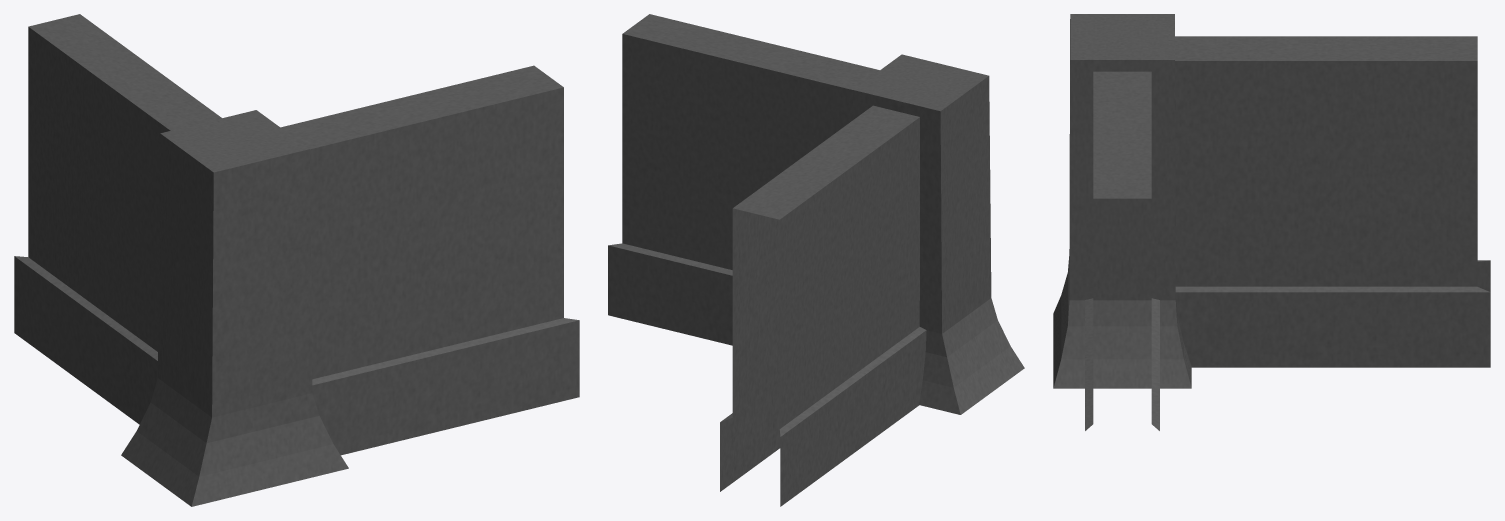
File: MuroQuina.fbx
3 views of the same model, side by side, from view 1: azimuth 30°, elevation 25°; view 2: azimuth 150°, elevation 25°; view 3: azimuth 270°, elevation 25° (orthographic). The views are drawn at different scales.
Visible parts, largest first — view 1: muroQuina; view 2: muroQuina; view 3: muroQuina.
Part boxes in pixels (<box>): muroQuina: <box>14,14,579,506</box>; muroQuina: <box>608,14,1024,506</box>; muroQuina: <box>1053,14,1490,430</box>.
Bounding box in the file's own units: 5469 × 4152 × 5230.
